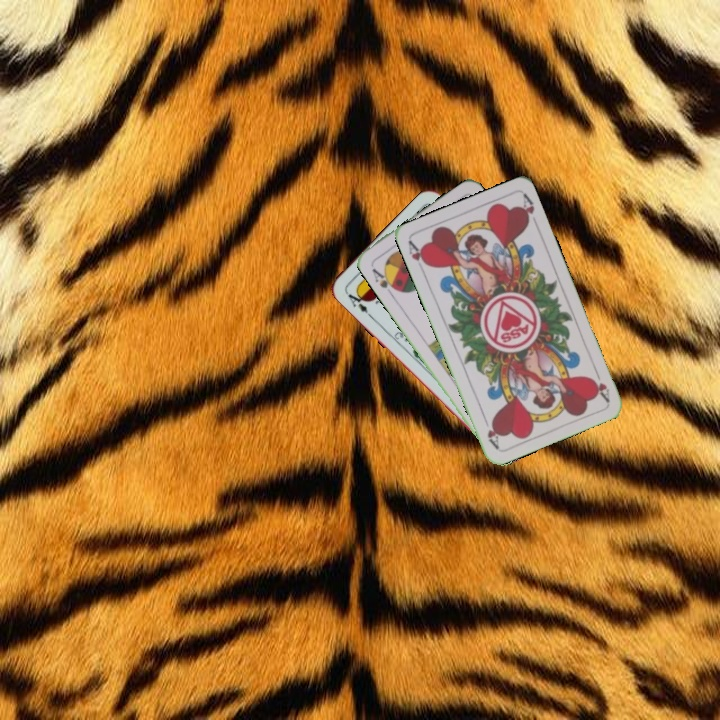EA: (341, 287, 374, 320)
HA: (587, 365, 612, 404), (404, 237, 431, 270)
SA: (368, 264, 400, 297)
